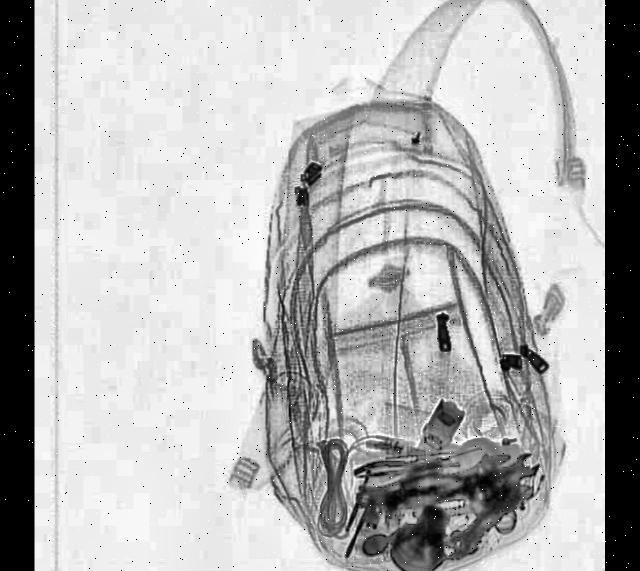Pliers: (352, 449, 442, 492)
Wrench: (443, 442, 542, 562)
